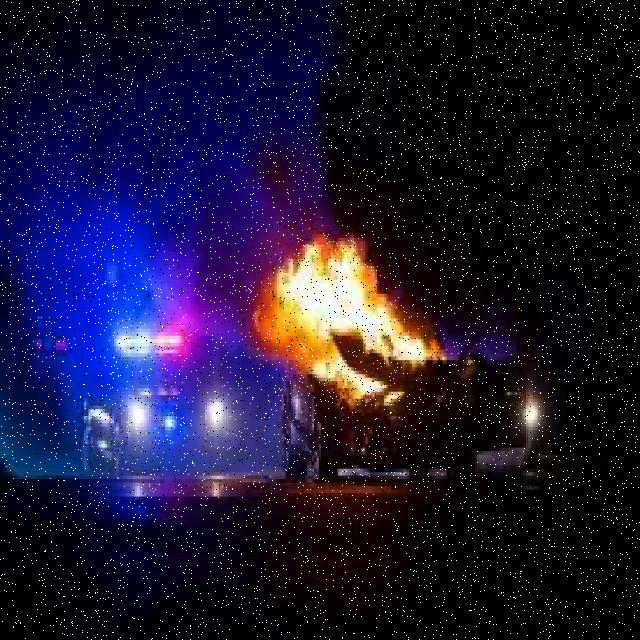fire: (282, 237, 422, 389)
light: (112, 319, 192, 361), (118, 389, 162, 442), (202, 392, 234, 436)
